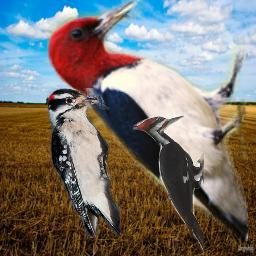Woodpecker: (44, 0, 248, 241), (47, 88, 120, 238), (133, 115, 204, 252)
